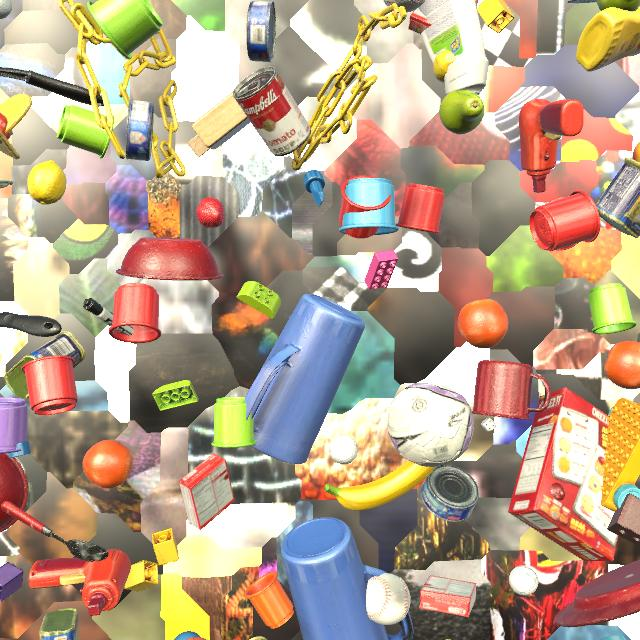ycb_003_cracker_box: (508, 387, 618, 561)
ycb_005_tomato_soup_can: (232, 66, 311, 156)
ycb_006_mustard_bottle: (576, 6, 640, 72)
ycb_007_tuna_fish_can: (421, 465, 479, 522), (246, 1, 276, 63), (126, 99, 154, 161)
ycb_009_gelatin_box: (178, 453, 235, 530), (419, 575, 476, 617), (408, 0, 478, 34)
ycb_010_potted_meat_can: (4, 331, 85, 399), (595, 158, 640, 238), (39, 608, 79, 640), (249, 636, 268, 640)
ycb_011_banana: (324, 460, 437, 511)
ycb_012_strawberry: (196, 197, 225, 228)
ycb_014_lemon: (27, 160, 66, 205), (433, 51, 457, 83)
ycb_015_peach: (633, 142, 640, 162)
ycb_016_pear: (439, 90, 485, 134), (596, 0, 640, 12)
ycb_017_orange: (458, 299, 508, 349), (83, 440, 132, 488), (604, 341, 640, 389), (186, 637, 207, 640)
